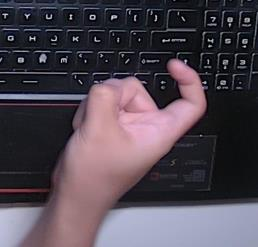anticlockwise: (48, 57, 209, 203)
